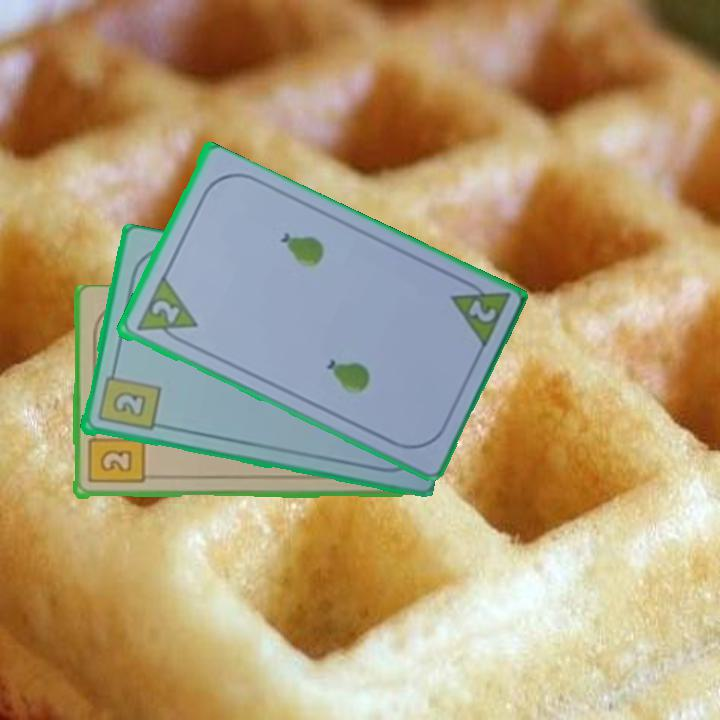2b: (94, 364, 162, 434), (85, 425, 146, 487)
2p: (131, 275, 200, 349), (463, 295, 499, 326)
